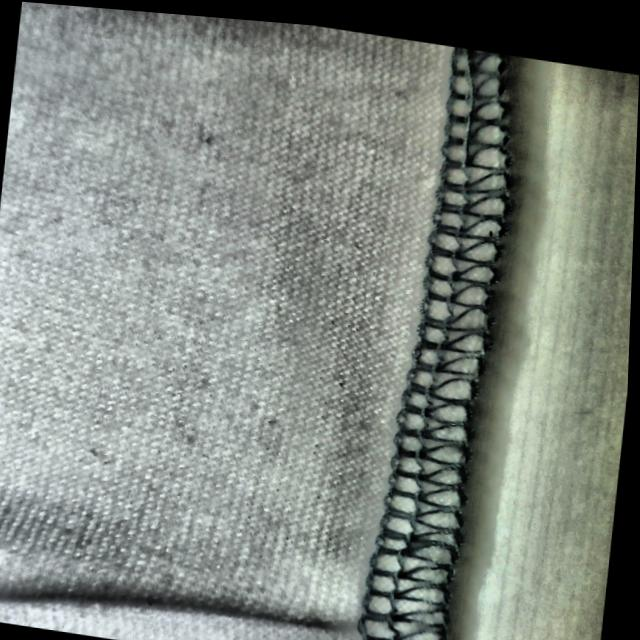seam: (121, 520, 461, 640)
